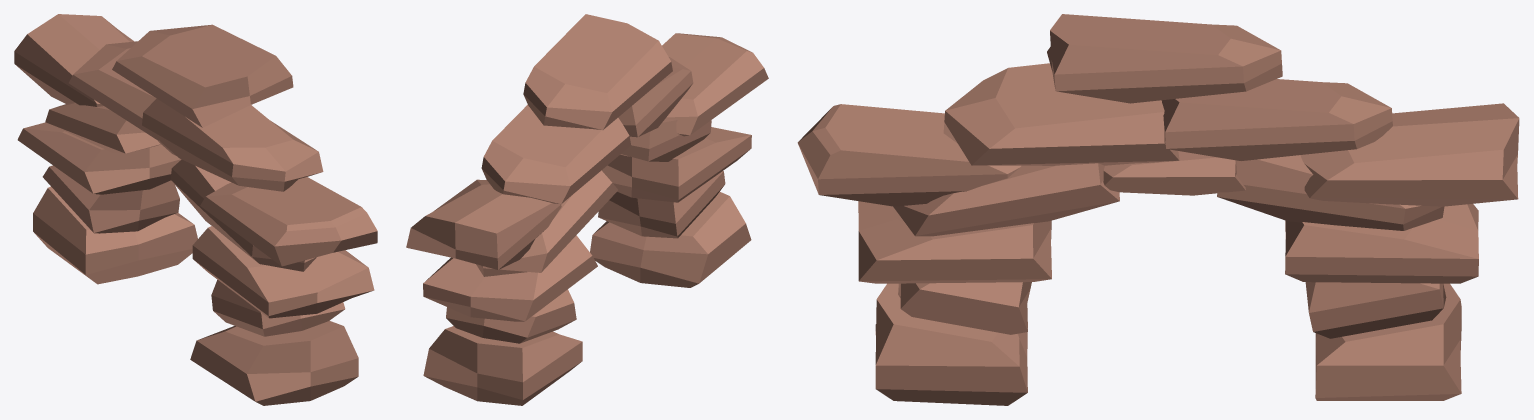
File: StoneTunnel.fbx
3 renders of one model, left to right at view 1: azimuth 30°, elevation 25°; view 2: azimuth 150°, elevation 25°; view 3: azimuth 270°, elevation 25°, orthographic. The views are drawn at different scales.
Visible parts, largest first — view 1: Cube.005; view 2: Cube.005; view 3: Cube.005.
Part boxes in pixels (<box>): Cube.005: <box>14,14,377,405</box>; Cube.005: <box>406,14,768,405</box>; Cube.005: <box>797,14,1519,405</box>.
Size of the model in its own units: 889 by 1927 by 3513.
